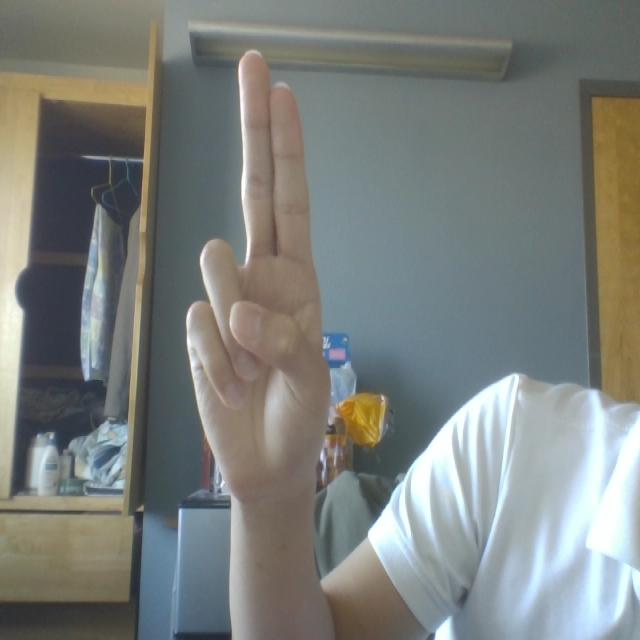U: (165, 31, 360, 496)
